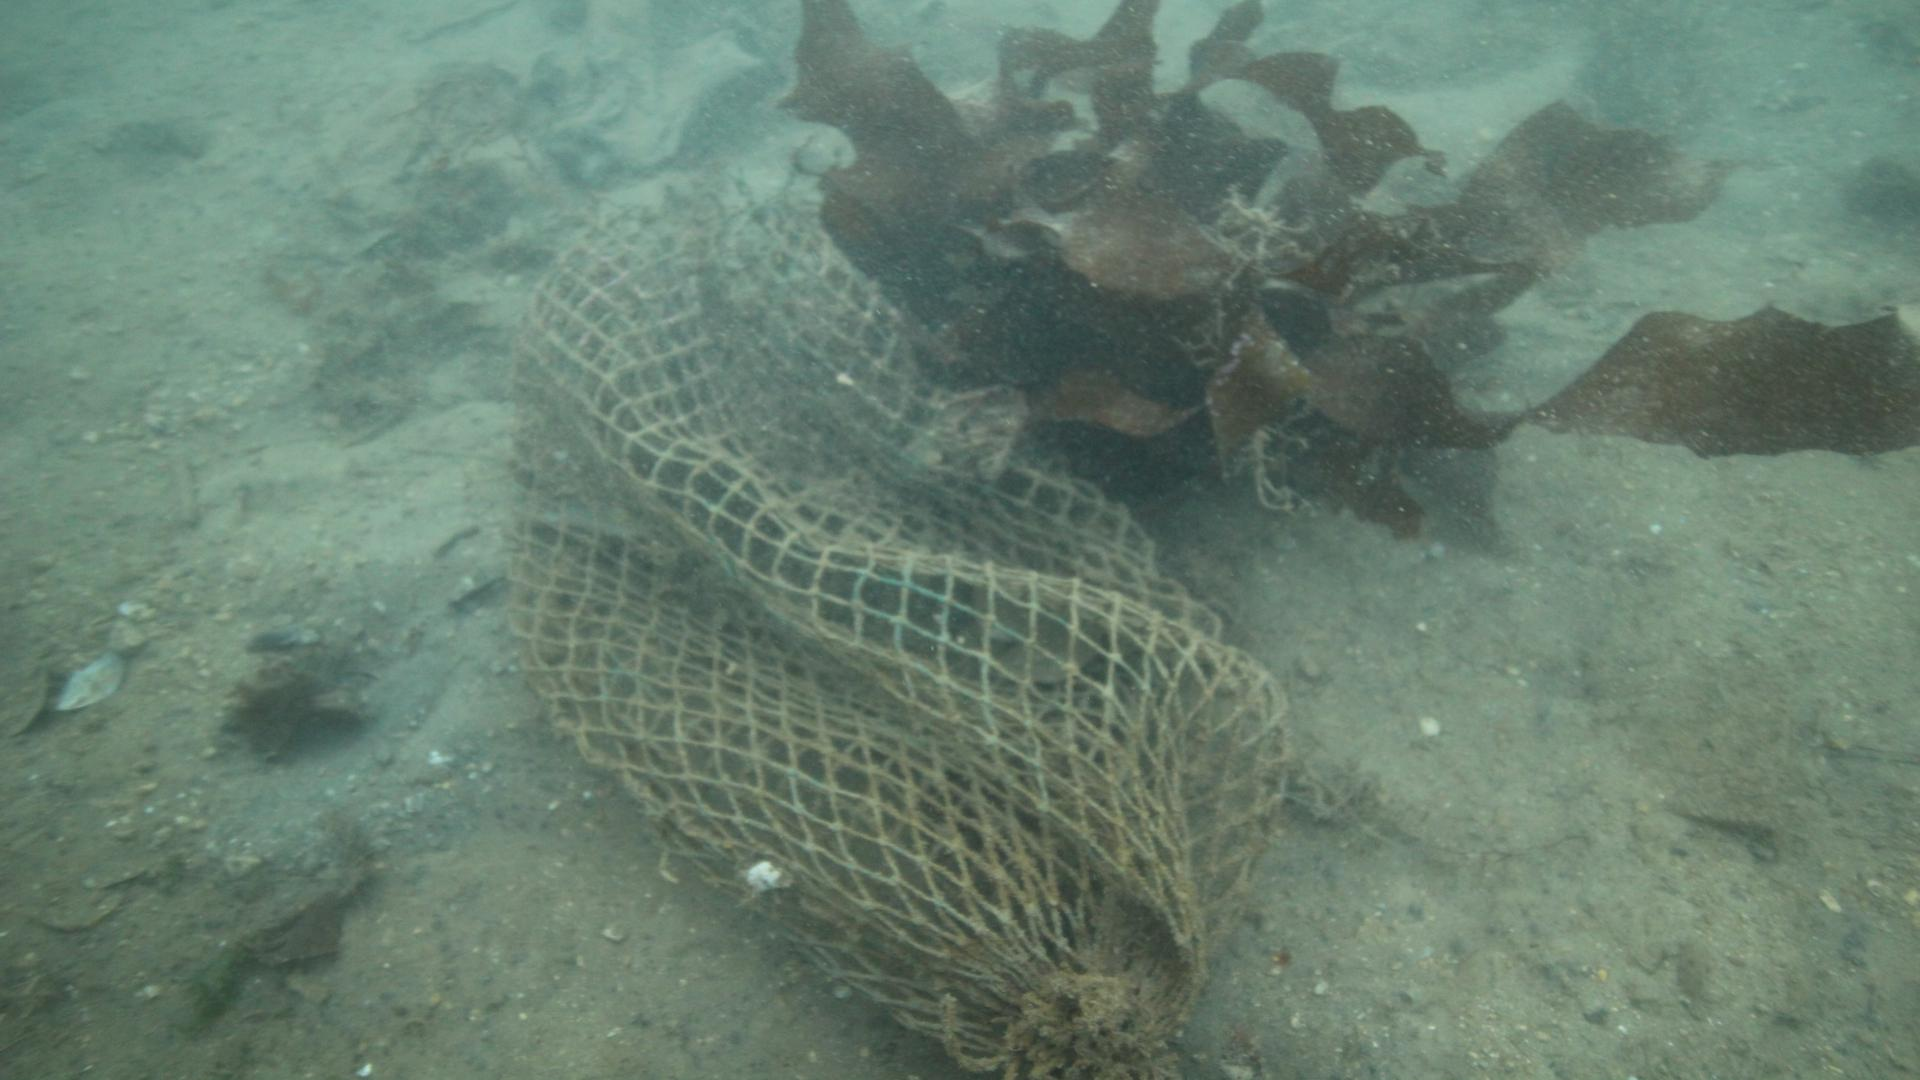fish net: (502, 200, 1294, 1069)
